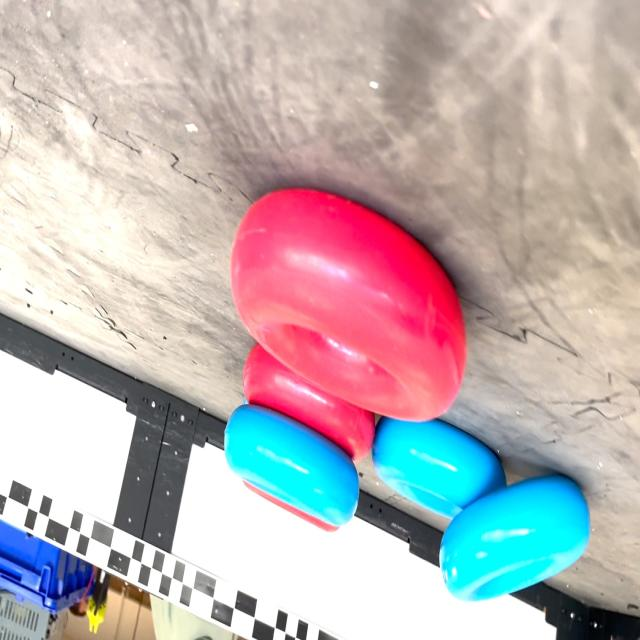Blue-Ring: (440, 476, 590, 600), (225, 405, 359, 526), (372, 418, 506, 518)
Red-Ring: (231, 189, 466, 420), (242, 344, 375, 460)
